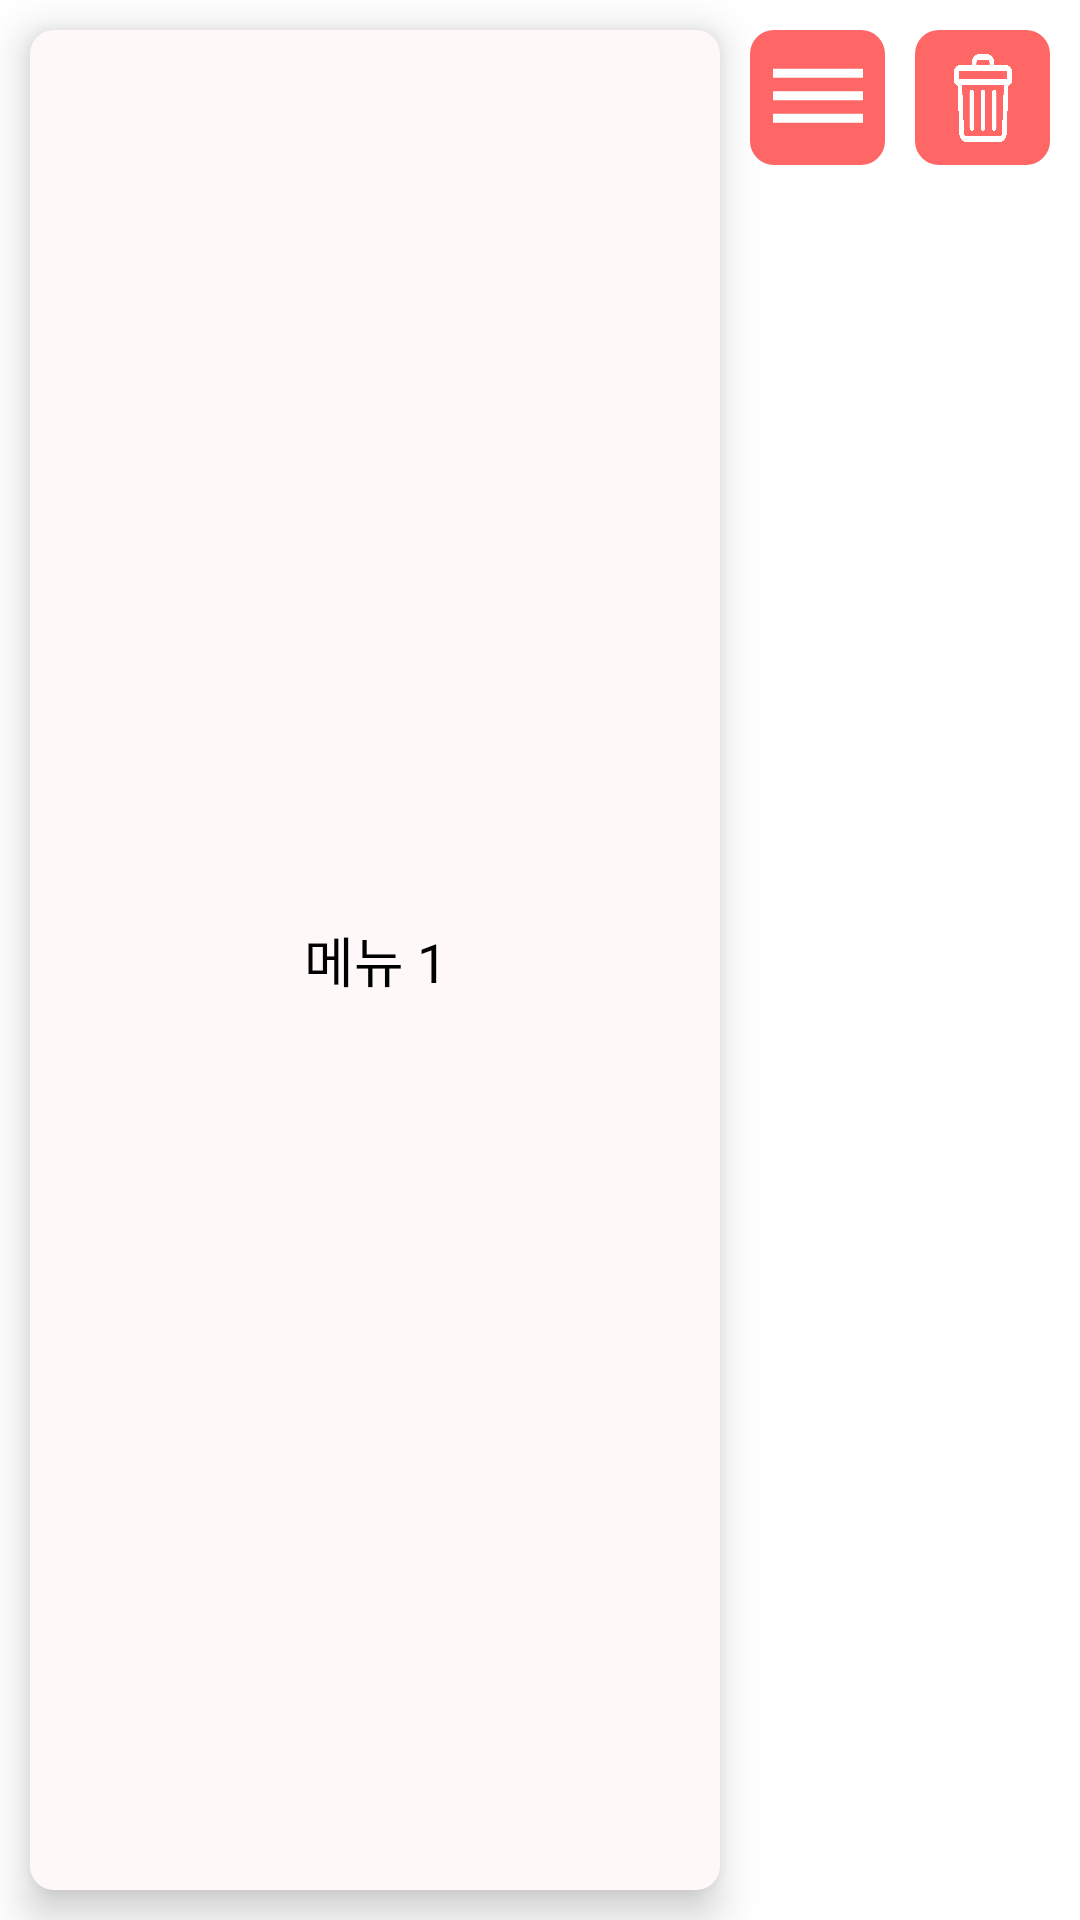

Where to tap for icons on this 1080px x 1920px app screen, as point (x, y):
list: point (817, 97)
trash: point (982, 97)
